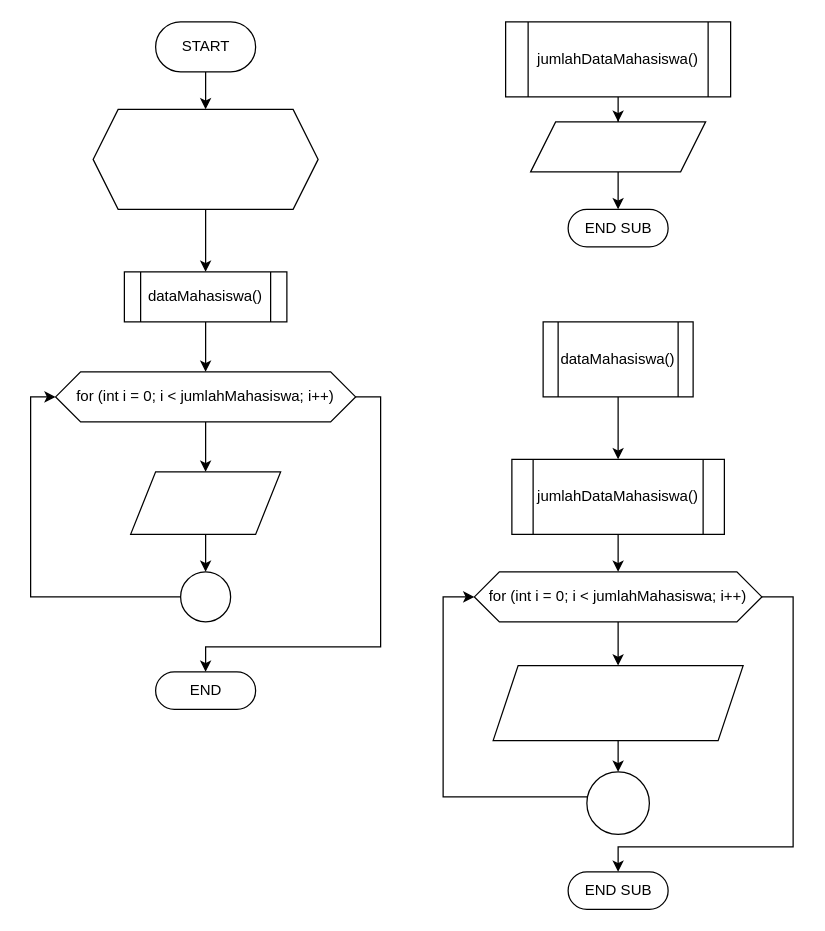
Some shapes in this 825 by 931 pixel diagram are drawn without their labels. The shapes that lost their labels are listed below. From the top down, each one's centre as x and y in pixels, then its label:
At point 205,158: "int jumlahMahasiswa; string nama[100]; string npm[100]; string jurusan[100];".
At point 617,146: "jumlahMahasiswa()".
At point 205,502: "nama[i] npm[i] jurusan[i[".
At point 617,702: "getline(cin, nama[i]) getline(cin, npm[i]) getline(cii, jurusan[i])".
